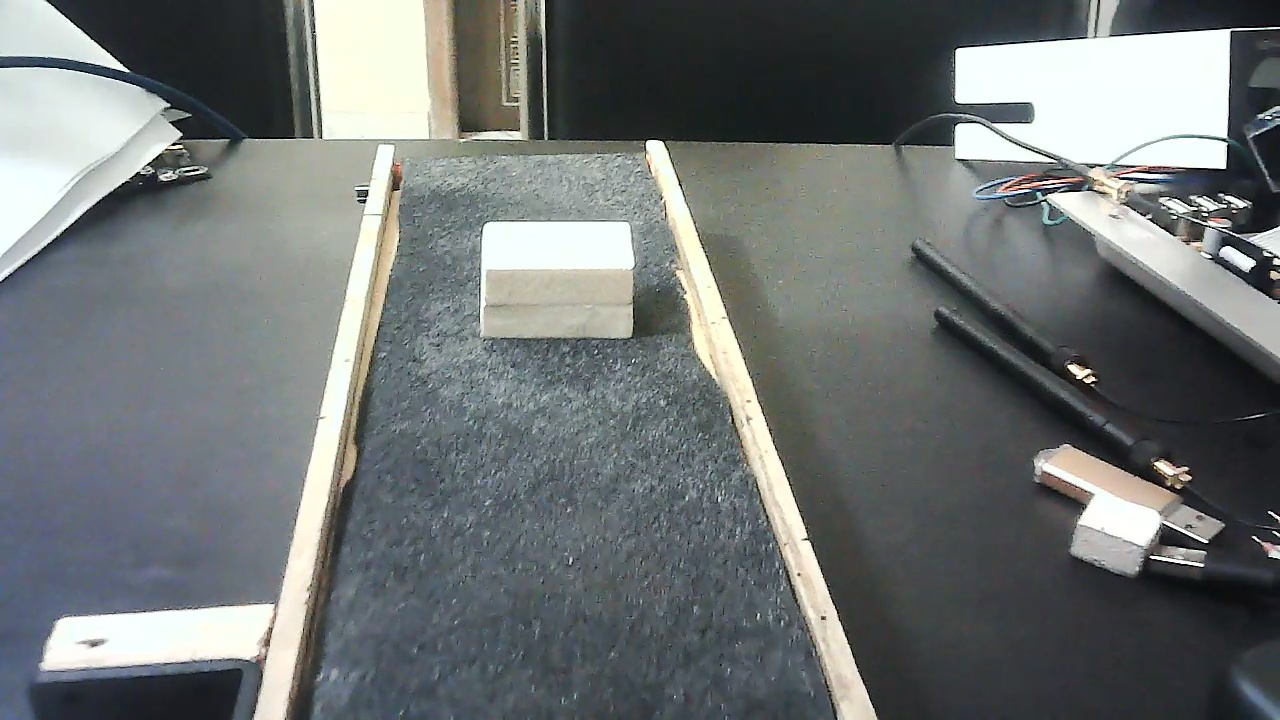BIG: (480, 200, 635, 355)
